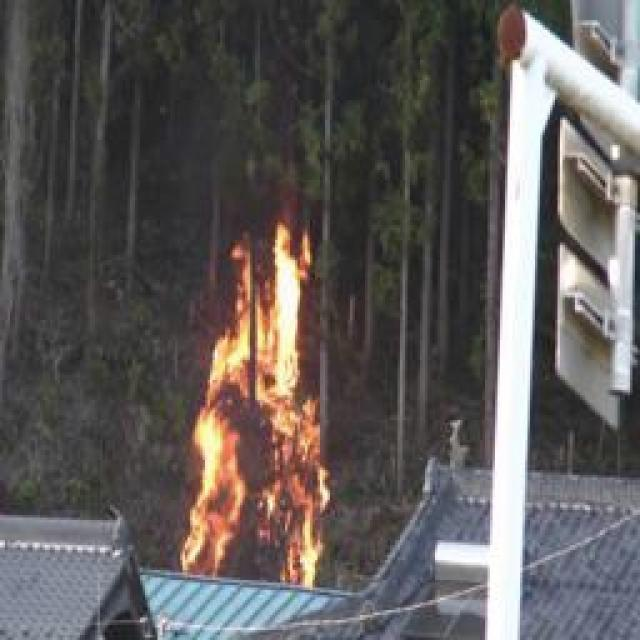Fire: (184, 237, 334, 588)
